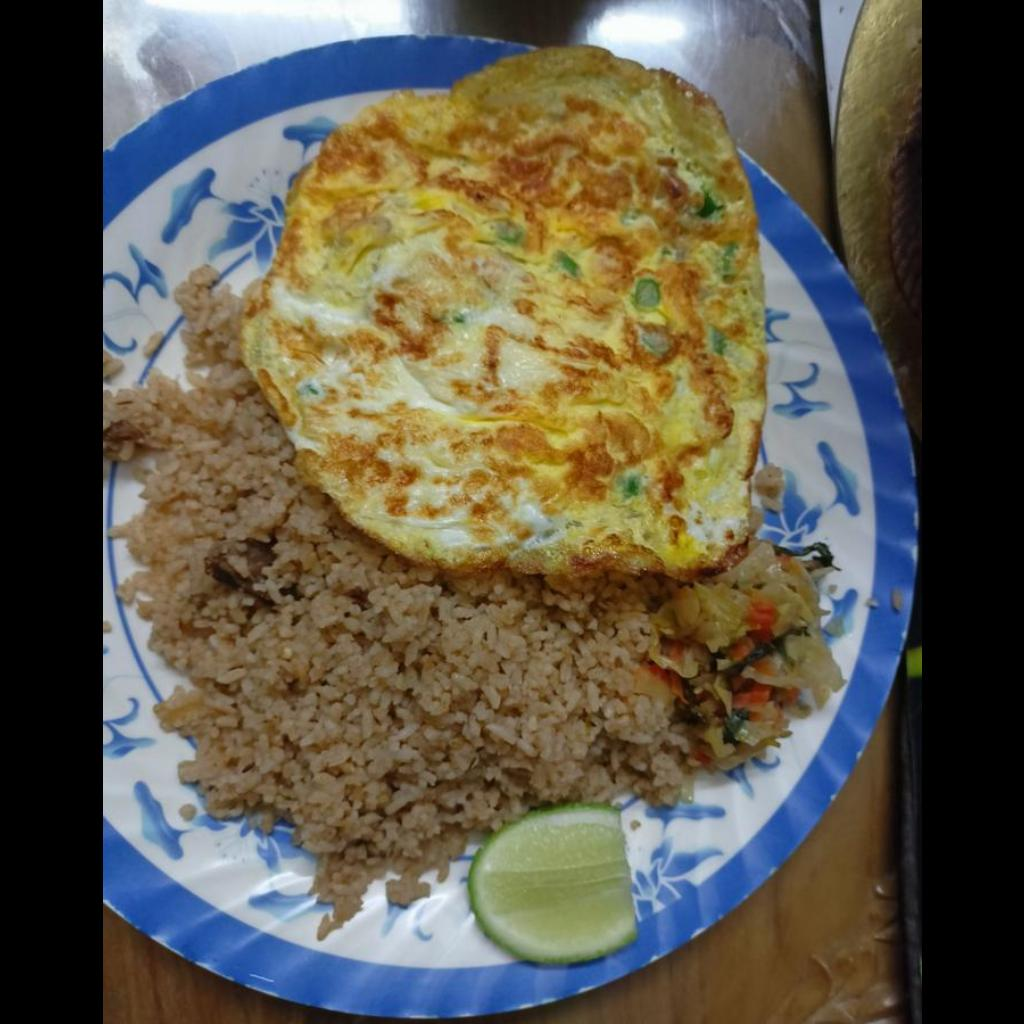biriyani: (112, 271, 848, 921)
egg-poached: (236, 47, 768, 569)
lemon: (466, 804, 634, 963)
